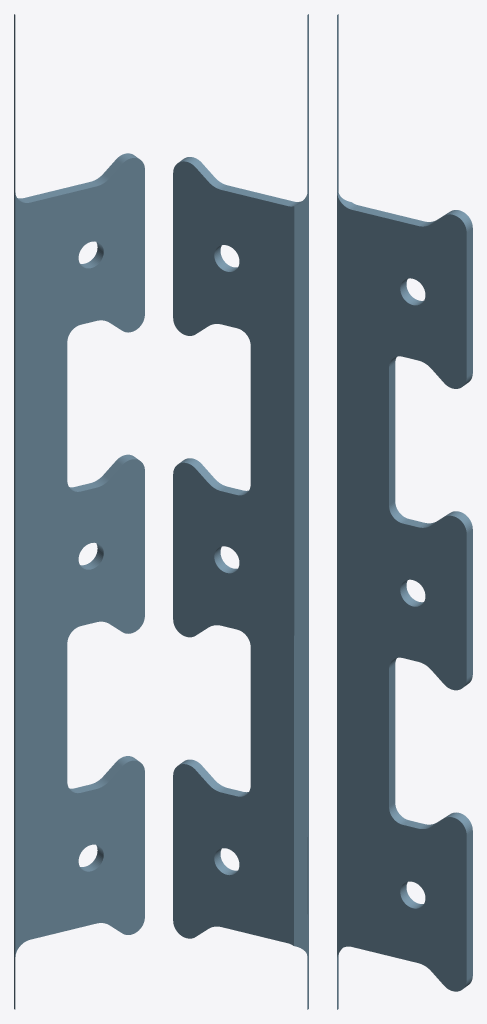
File: left-panel-flap.glb
3 views of the same model, side by side, from view 1: azimuth 30°, elevation 25°; view 2: azimuth 150°, elevation 25°; view 3: azimuth 330°, elevation 25° (orthographic).
Parts seen in each view (by area): view 1: left-panel-flap; view 2: left-panel-flap; view 3: left-panel-flap.
Boxes of the visible parts, x1,y1,x2,y2 form: left-panel-flap: [14, 14, 144, 1009]; left-panel-flap: [173, 14, 308, 1009]; left-panel-flap: [337, 14, 472, 1009].
Size of the model in its own units: 108 by 795 by 9.
